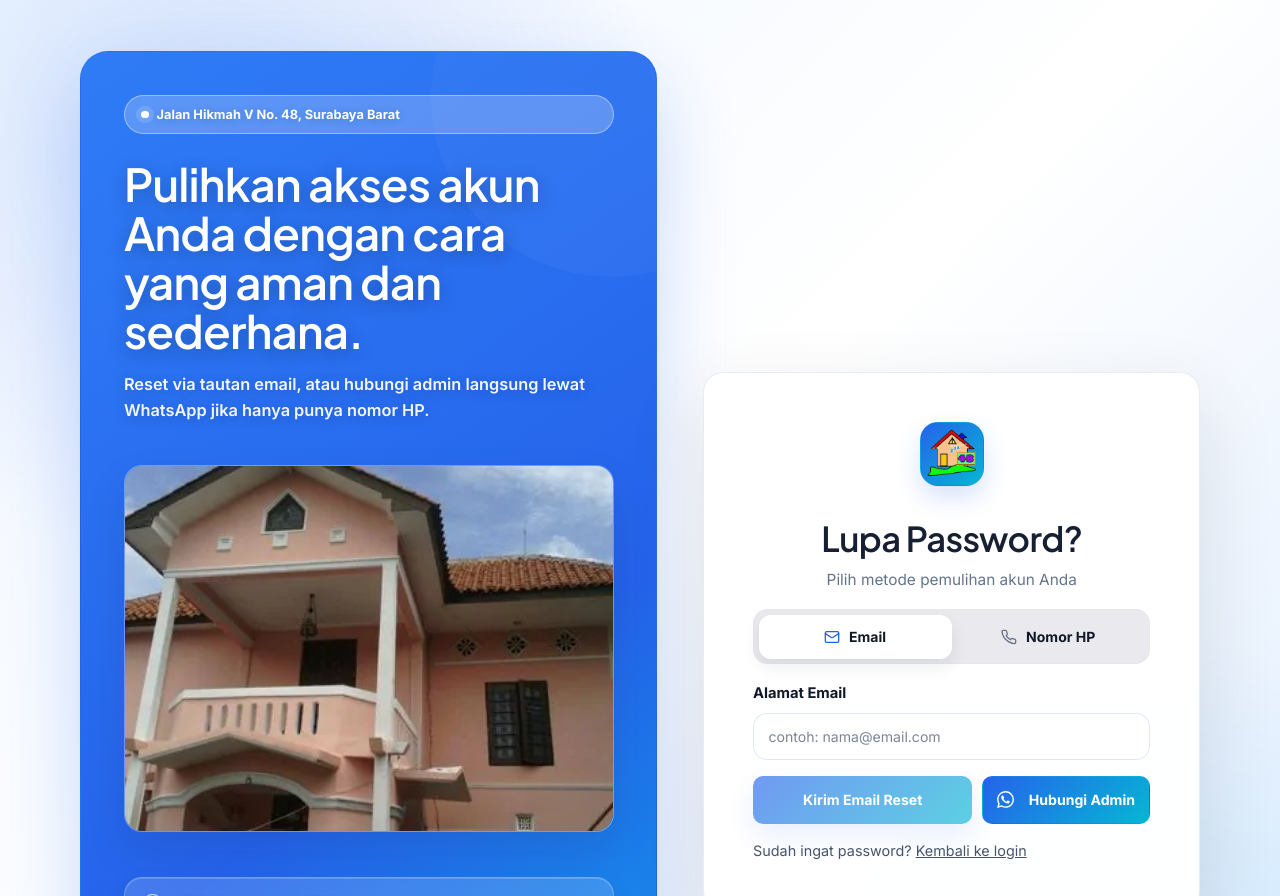
Test: ForgotPasswordPage › menampilkan pesan netral dan tidak merender preview token yang tidak didukung backend
Type "penghuni@example.com" into the field labelled "Alamat Email" at (952, 736), box [753,713,1150,760]
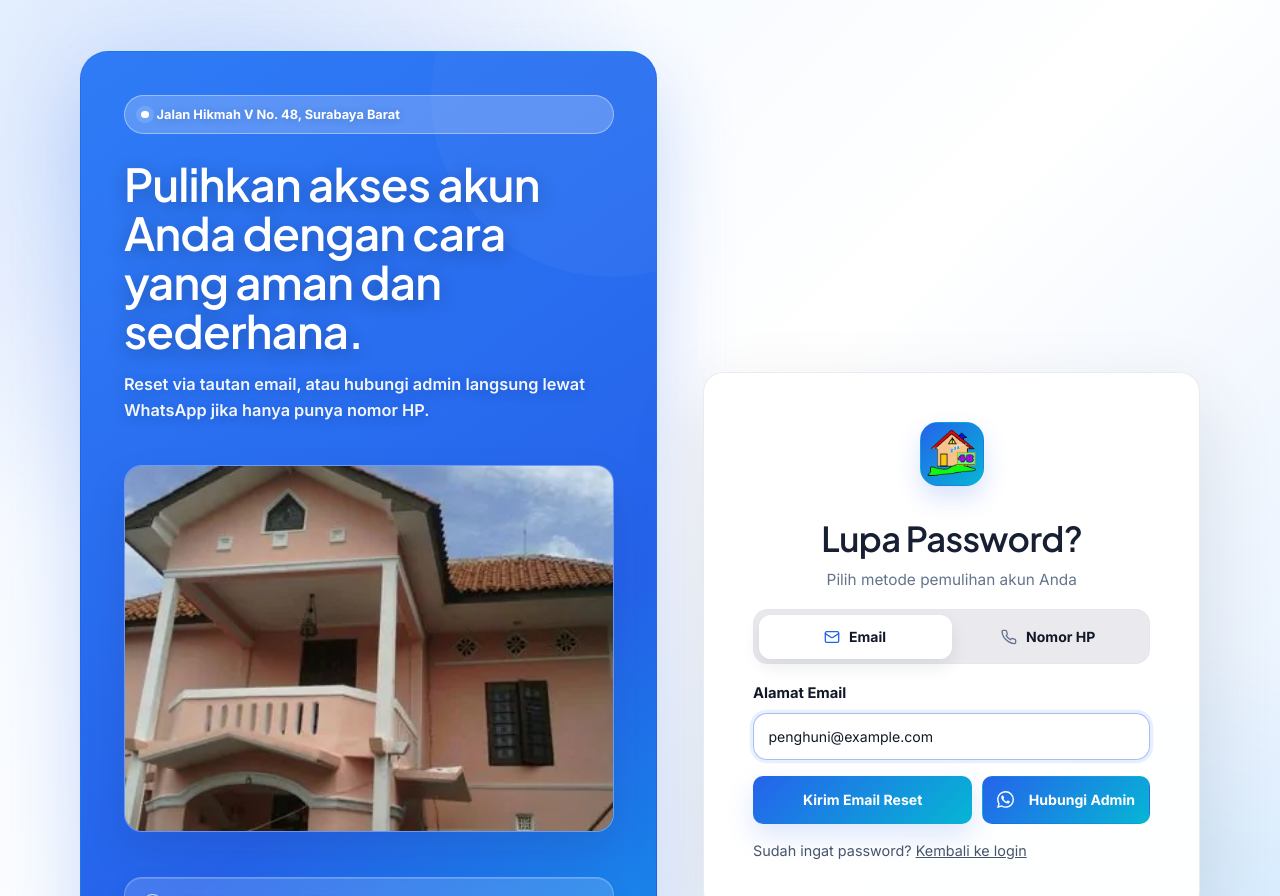
Click the button "Kirim Email Reset" at (863, 800), box [753,776,972,824]
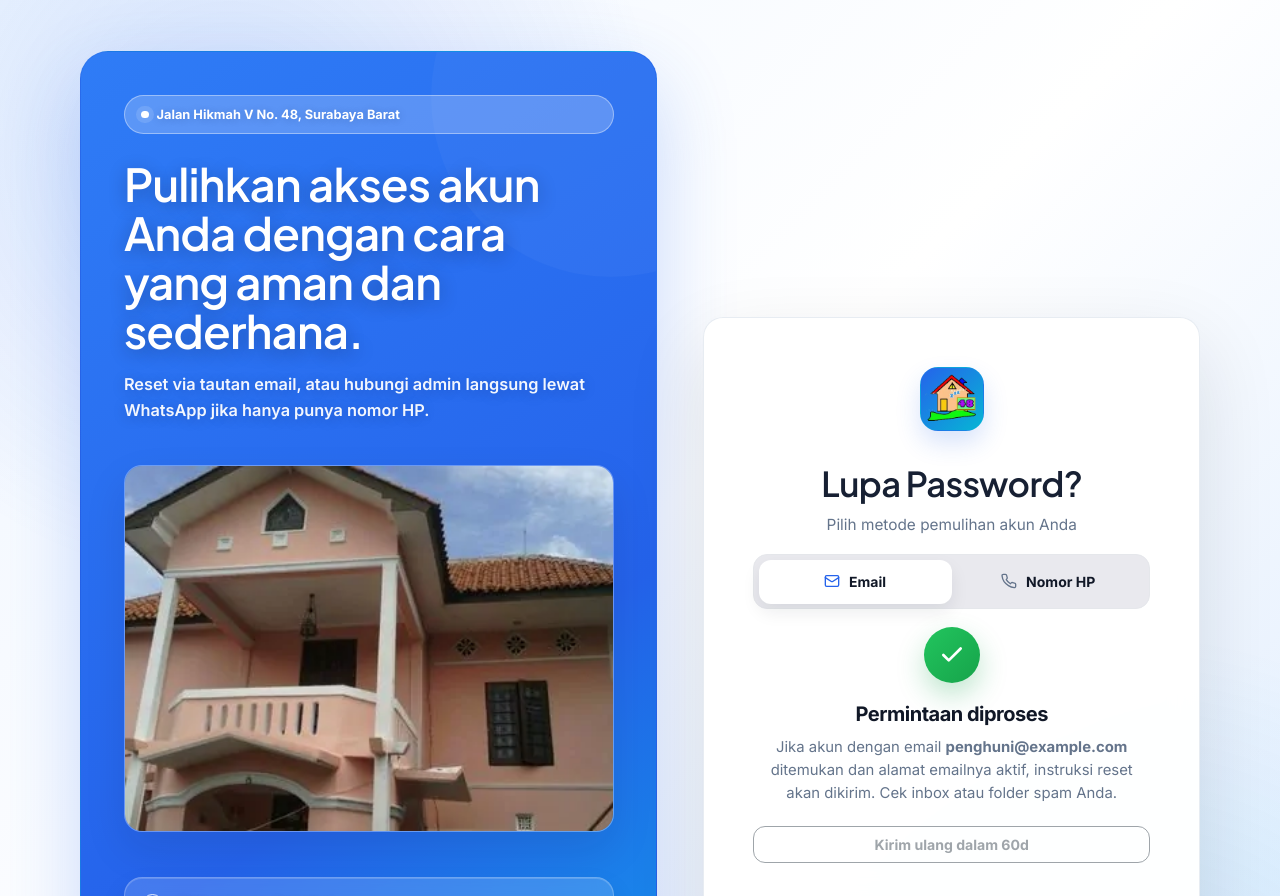
Now the text "Permintaan diproses" is shown, box [856,702,1048,726]
Now the text "Jika akun dengan email" is shown, box [776,738,946,756]
